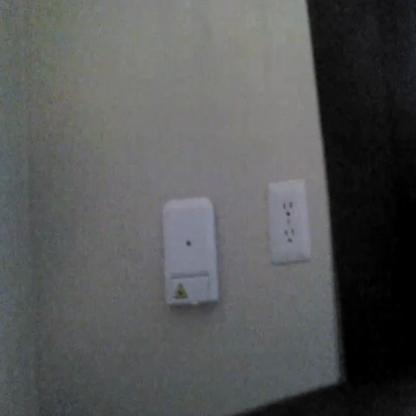OUTLET: (268, 181, 310, 259)
